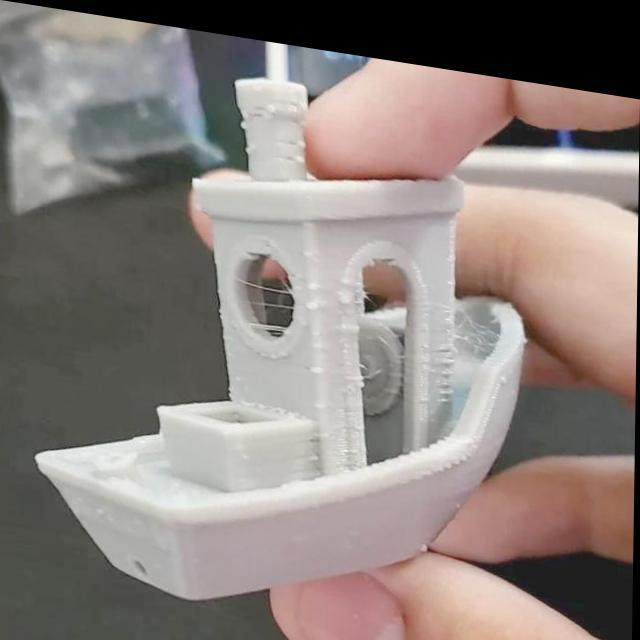zits: (304, 346, 327, 368), (311, 388, 331, 406), (338, 280, 356, 298), (304, 268, 324, 284), (304, 287, 320, 306), (341, 260, 356, 280)
